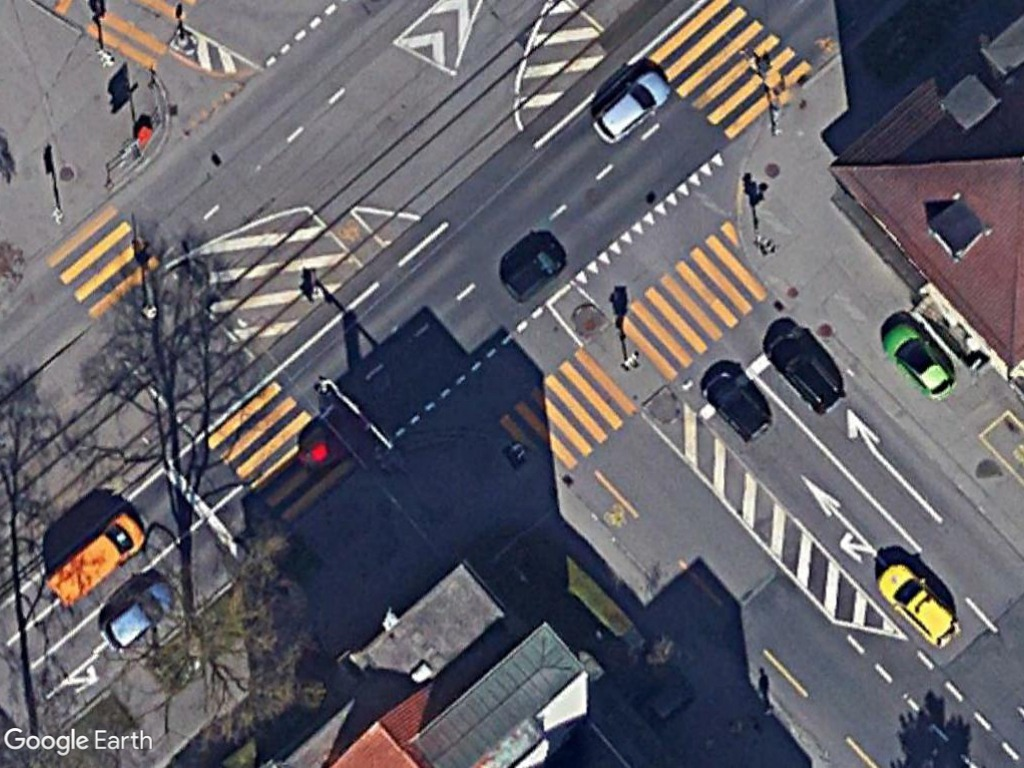car: (874, 558, 963, 649), (880, 318, 958, 401), (592, 70, 674, 144), (99, 580, 179, 654)
van: (46, 510, 149, 611)
